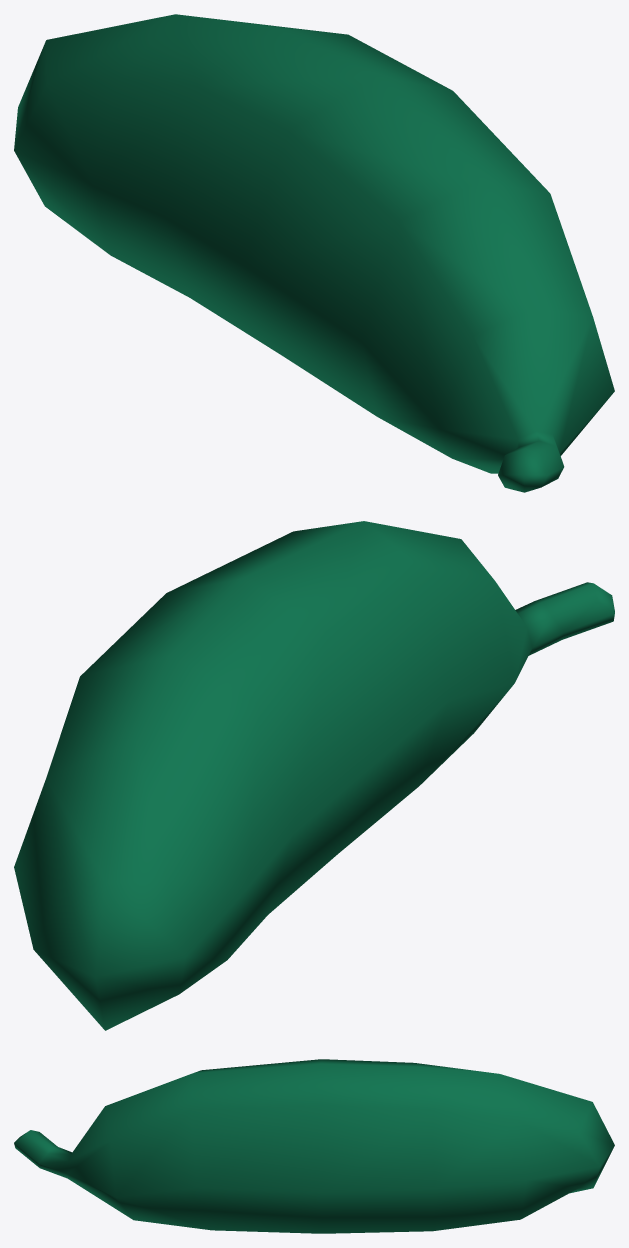
Rendered from Cucumber.fbx.
3 renders of one model, top to bottom at view 1: azimuth 30°, elevation 25°; view 2: azimuth 150°, elevation 25°; view 3: azimuth 270°, elevation 25°, orthographic. The views are drawn at different scales.
Parts seen in each view (by area): view 1: Cucumber; view 2: Cucumber; view 3: Cucumber.
Boxes of the visible parts, left/top/right/bottom form: Cucumber: left=14, top=14, right=614, bottom=492; Cucumber: left=14, top=521, right=614, bottom=1030; Cucumber: left=14, top=1059, right=614, bottom=1233.
Bounding box in the file's own units: 10.6 × 10.25 × 35.81.
